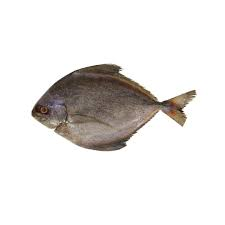Ikan Bawal: (24, 58, 201, 152)
